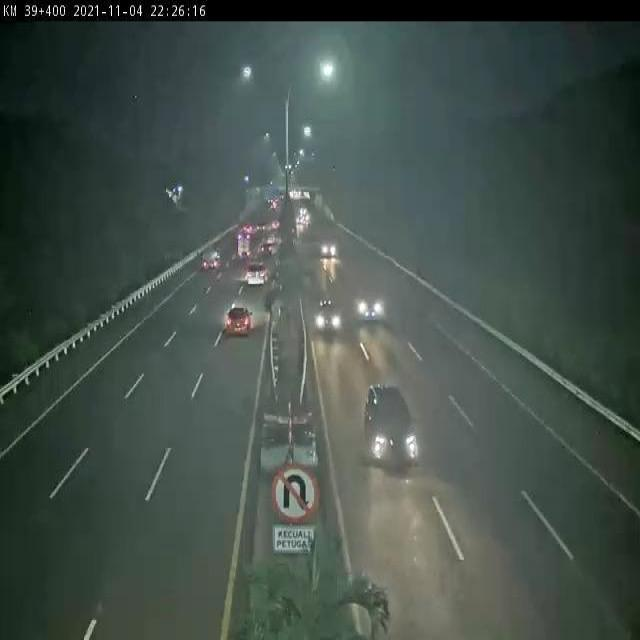car: (362, 383, 427, 477), (316, 298, 342, 334), (360, 296, 389, 328), (226, 306, 253, 334), (247, 264, 263, 285), (317, 243, 340, 257)
